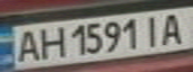1: (118, 16, 142, 51), (66, 21, 87, 56)
5: (84, 20, 106, 55)
9: (100, 18, 124, 53)
A: (9, 27, 42, 63), (157, 10, 190, 45)
H: (33, 25, 66, 60)
I: (139, 11, 166, 47)
